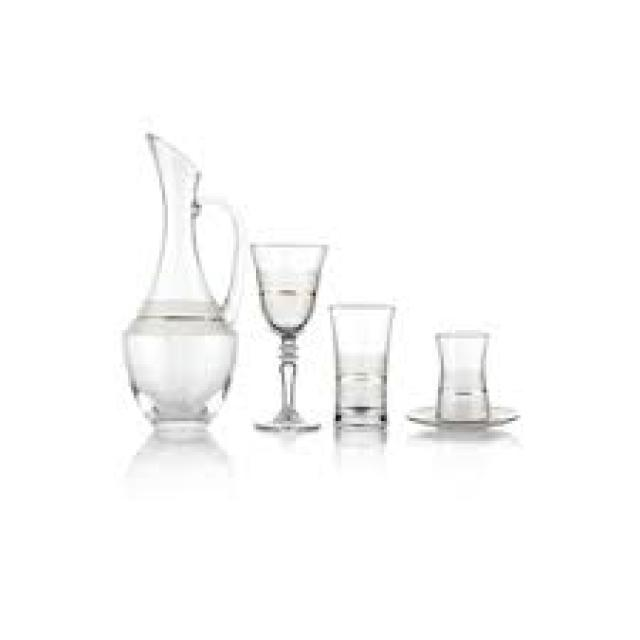Dry: (117, 131, 244, 436), (250, 243, 328, 434), (408, 330, 521, 430), (326, 302, 396, 433)
